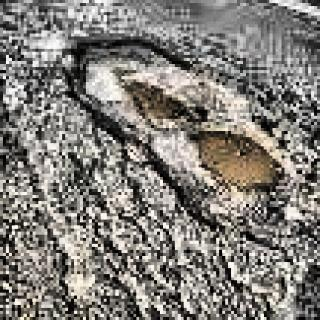pothole: (65, 31, 293, 234)
